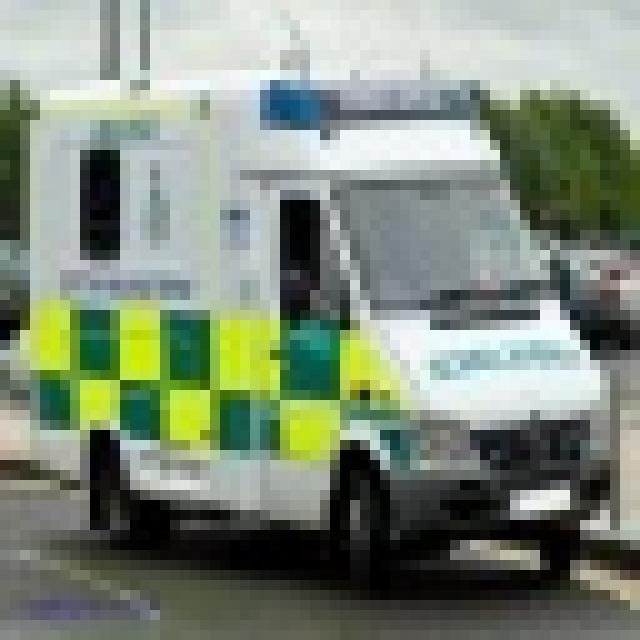Ambulance: (20, 0, 610, 590)
